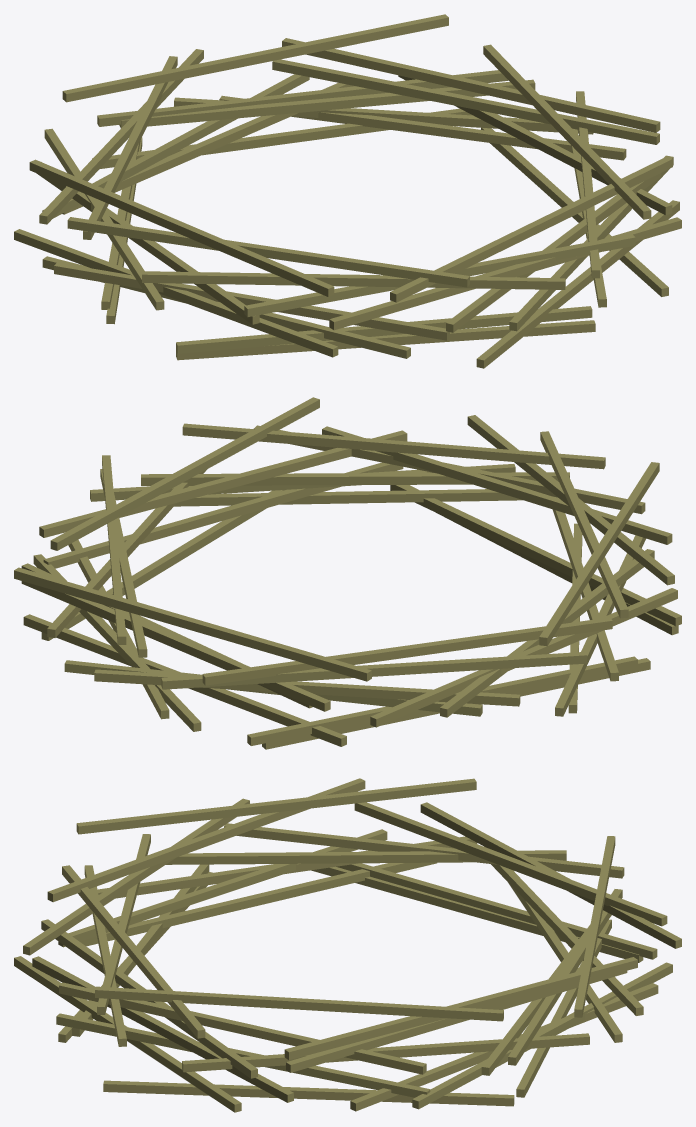
File: Straw.fbx
3 views of the same model, one above another, from view 1: azimuth 30°, elevation 25°; view 2: azimuth 150°, elevation 25°; view 3: azimuth 270°, elevation 25° (orthographic). The views are drawn at different scales.
Visible parts, largest first — view 1: pCube13; view 2: pCube13; view 3: pCube13.
Boxes of the visible parts, bbox=[...] form: pCube13: bbox=[14, 14, 681, 368]; pCube13: bbox=[14, 397, 681, 749]; pCube13: bbox=[14, 778, 681, 1112].
Size of the model in its own units: 6.23 by 1.08 by 6.49.
